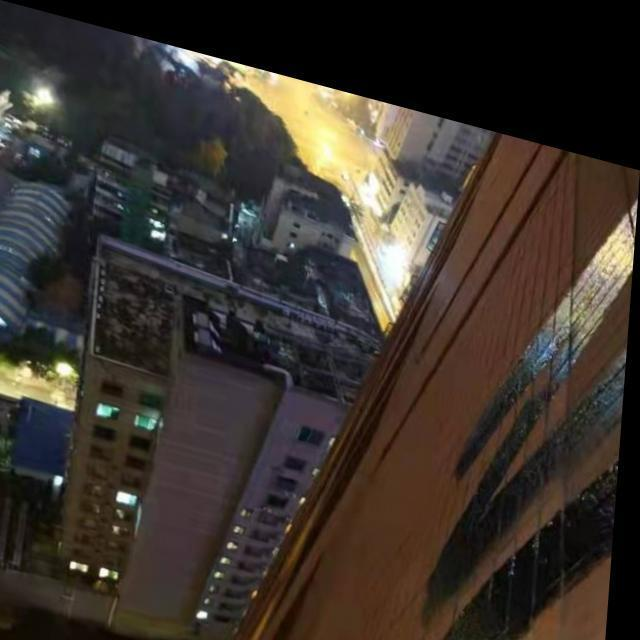-: (391, 92, 640, 640)
